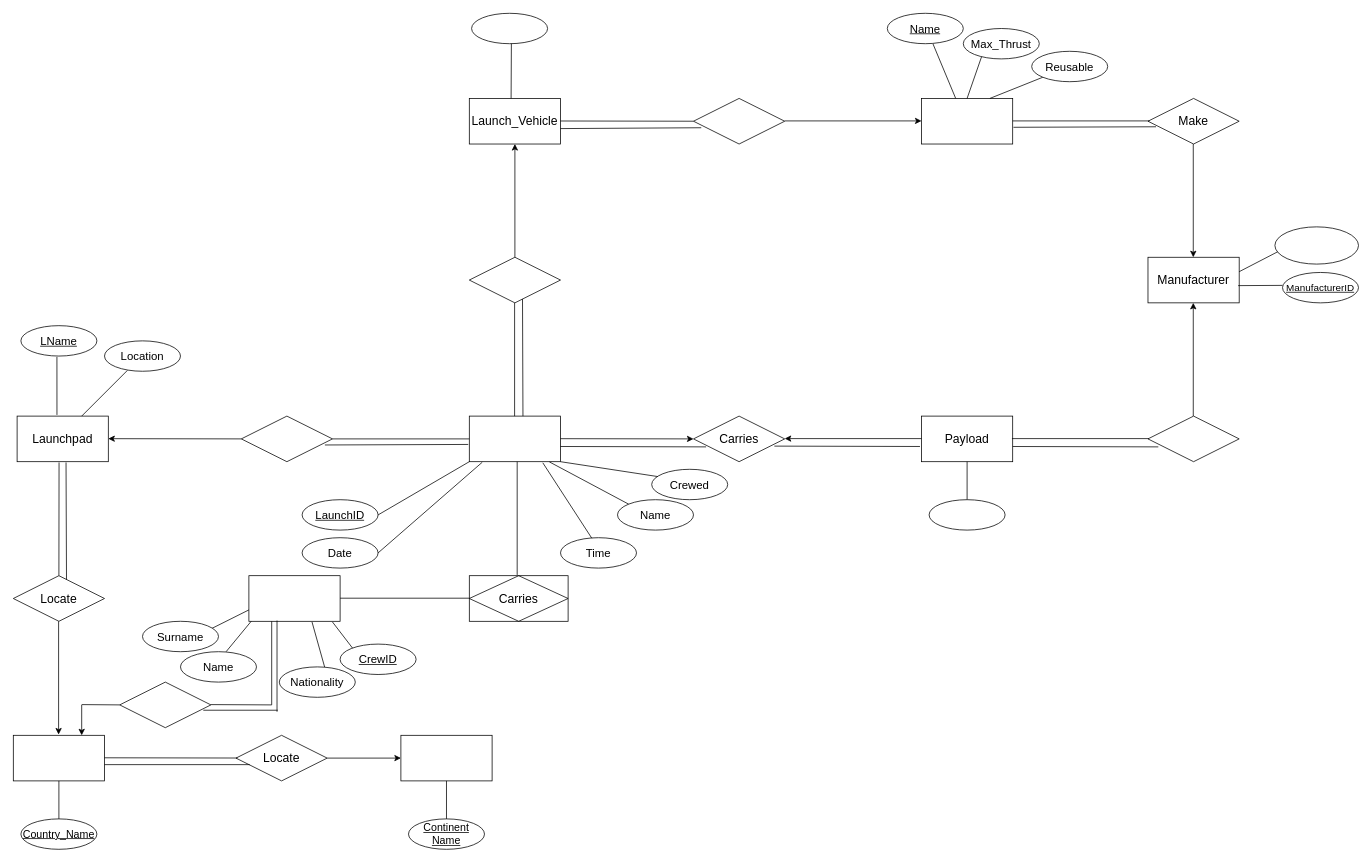
Some shapes in this 1372 by 863 pixel diagram are drawn without their labels. Here are the shapes that lost their labels. From the top down, the box of each, then its label:
(471, 13, 548, 44): Serial_Num
(693, 98, 785, 144): Belong To
(921, 98, 1013, 144): Launch_Vehicle Type
(1274, 226, 1358, 264): Manufacturer Name
(469, 256, 560, 303): Performed By
(241, 415, 332, 462): Hosts
(469, 415, 560, 462): Launch
(1147, 415, 1239, 462): Produces
(928, 499, 1005, 530): PayloadID
(248, 575, 340, 621): Crew_Member
(119, 681, 211, 728): Comes from
(13, 735, 104, 781): Country
(400, 735, 492, 781): Continent
